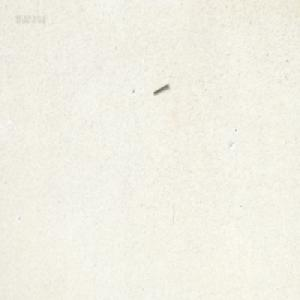Bolt: (152, 81, 168, 93)
